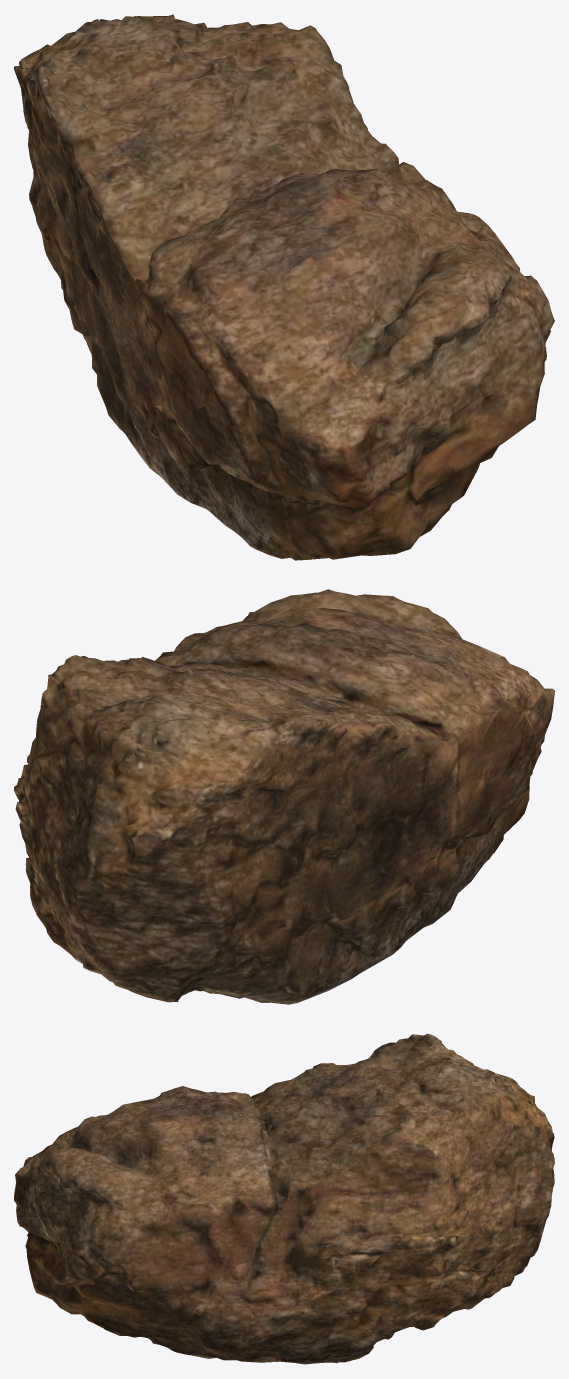
Rendered from namaqualand_boulder_06.glb.
3 renders of one model, top to bottom at view 1: azimuth 30°, elevation 25°; view 2: azimuth 150°, elevation 25°; view 3: azimuth 270°, elevation 25°, orthographic. The views are drawn at different scales.
Visible parts, largest first — view 1: namaqualand_boulder_06; view 2: namaqualand_boulder_06; view 3: namaqualand_boulder_06.
Boxes of the visible parts, box(x1,y1,x2,y2) form: namaqualand_boulder_06: box(14, 14, 554, 560); namaqualand_boulder_06: box(14, 589, 554, 1004); namaqualand_boulder_06: box(14, 1033, 554, 1364).
Size of the model in its own units: 0.6736 by 0.6498 by 1.21.
1 material, 1 textured.
